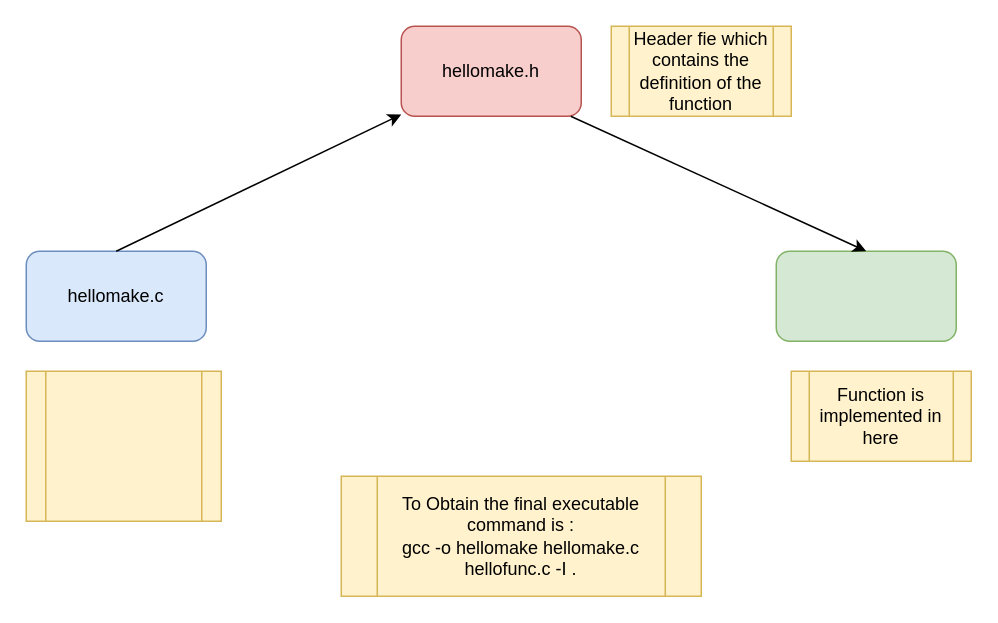
The diagram is 998 pixels wide and 623 high, and some of its shapes have lost their labels. The centre of each missing label's shape, as x and y in pixels:
"C Main program which calls the function which is there in hellofunc.c" goes at pixel 123 445.
"hellofunc.c" goes at pixel 865 295.
